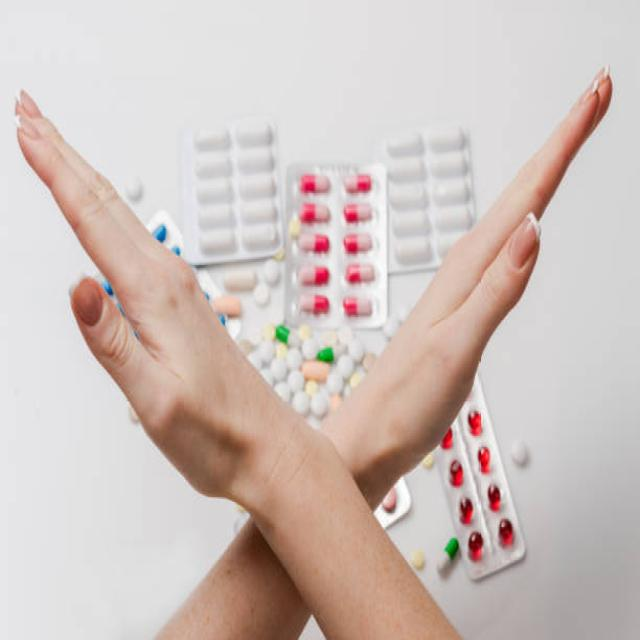B3: (164, 108, 298, 267), (432, 386, 533, 590), (277, 150, 390, 328), (375, 130, 497, 278)
